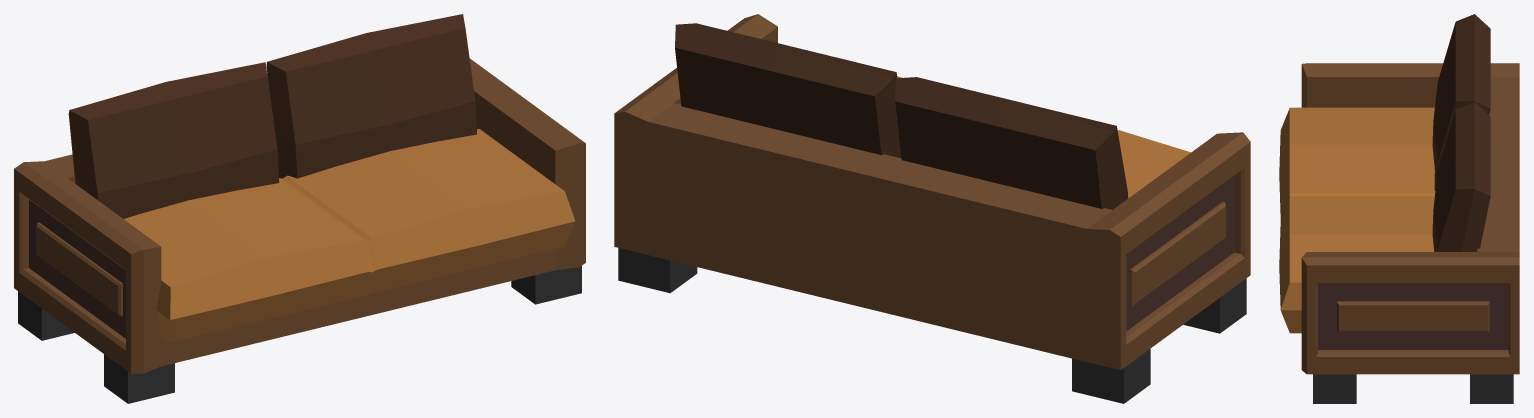
Rendered from Prop_Sofa_02_E.fbx.
The picture shows the model from 3 angles, left to right: view 1: azimuth 30°, elevation 25°; view 2: azimuth 150°, elevation 25°; view 3: azimuth 270°, elevation 25°; orthographic projection. The views are drawn at different scales.
Parts seen in each view (by area): view 1: Prop_Sofa_02_E; view 2: Prop_Sofa_02_E; view 3: Prop_Sofa_02_E.
Boxes of the visible parts, box(x1,y1,x2,y2) form: Prop_Sofa_02_E: box(14, 14, 585, 403); Prop_Sofa_02_E: box(614, 14, 1250, 403); Prop_Sofa_02_E: box(1279, 14, 1519, 403).
Size of the model in its own units: 200 by 95 by 101.
